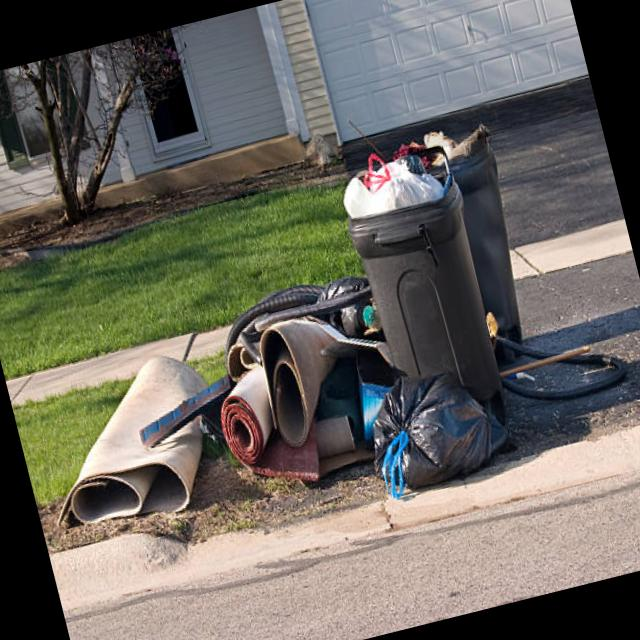House: (0, 0, 597, 263)
